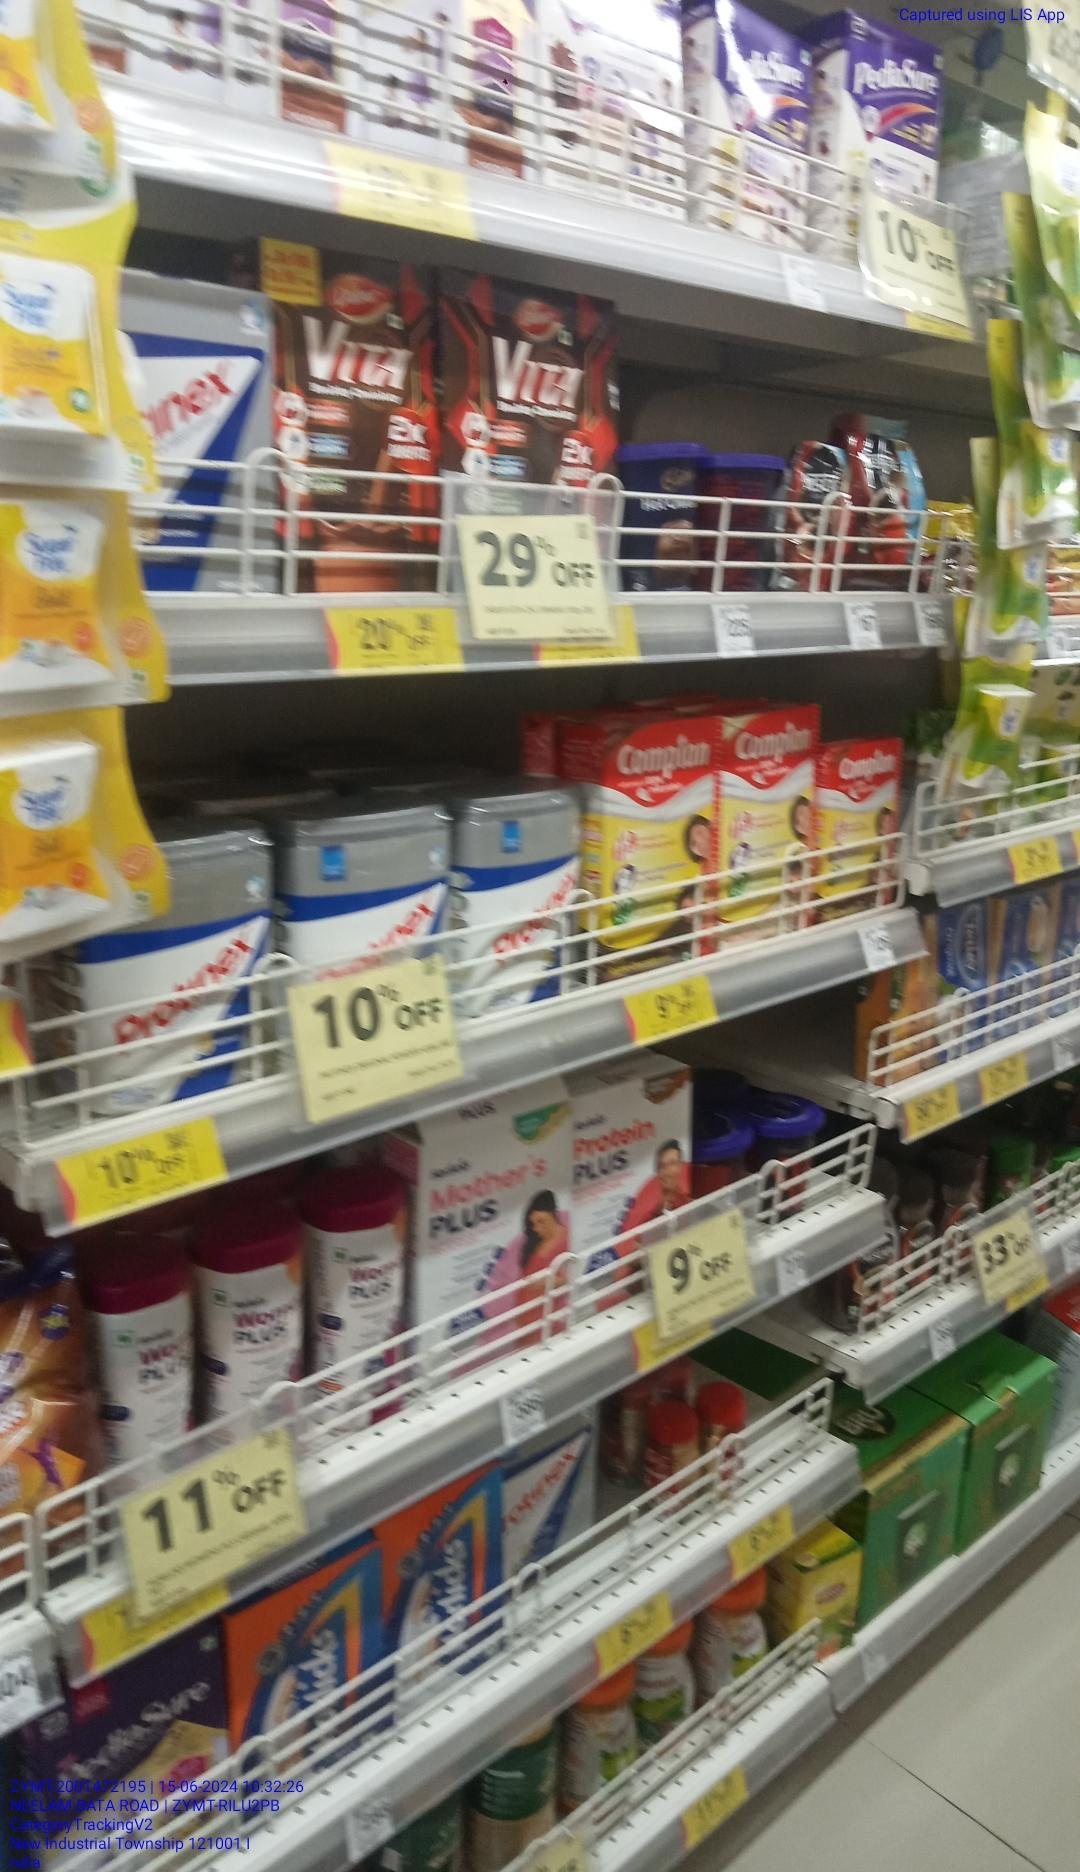COMPLAN_CHOCOLATE_500_GMS_PACK: (606, 715, 720, 972), (729, 702, 824, 950)
PROTINEX_ORIGINAL_400_G_JAR: (93, 851, 280, 1125), (458, 793, 580, 1007)
